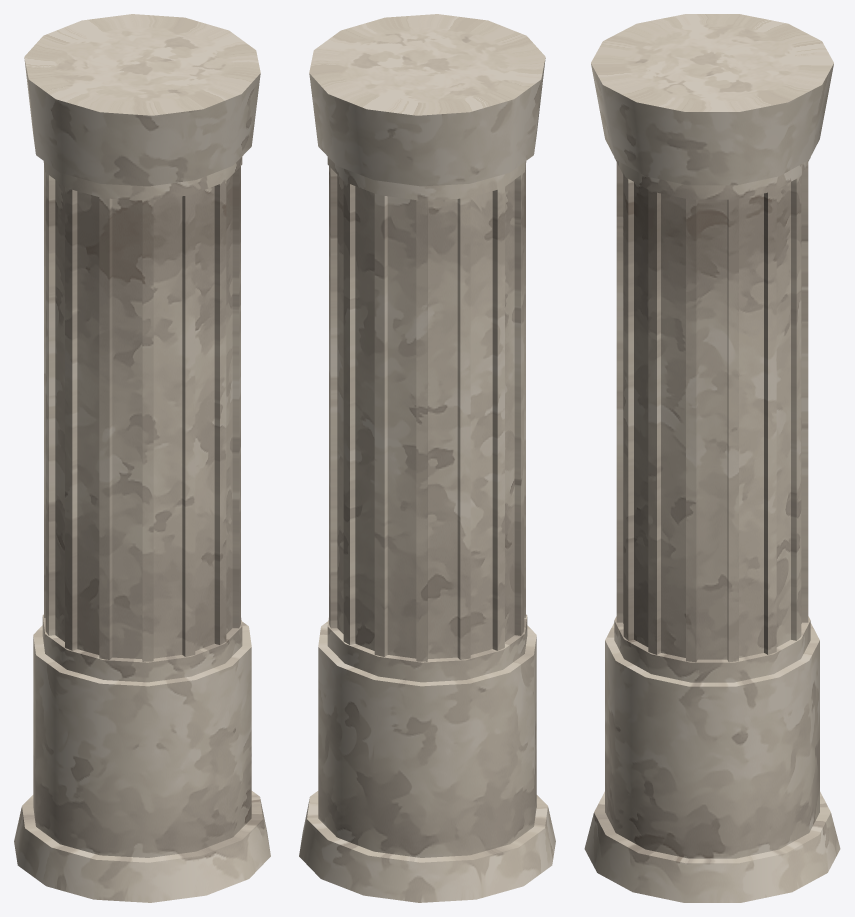
The model's file is kolumna.obj.
The picture shows the model from 3 angles, left to right: view 1: azimuth 30°, elevation 25°; view 2: azimuth 150°, elevation 25°; view 3: azimuth 270°, elevation 25°; orthographic projection.
Parts seen in each view (by area): view 1: Cylinder.010; view 2: Cylinder.010; view 3: Cylinder.010.
Part boxes in pixels (x1,y1,x2,y2): Cylinder.010: (14,14,270,902); Cylinder.010: (299,14,555,902); Cylinder.010: (584,14,840,902).
Size of the model in its own units: 6.2 by 21 by 6.2.
Materials: 1 (1 with a texture image).
